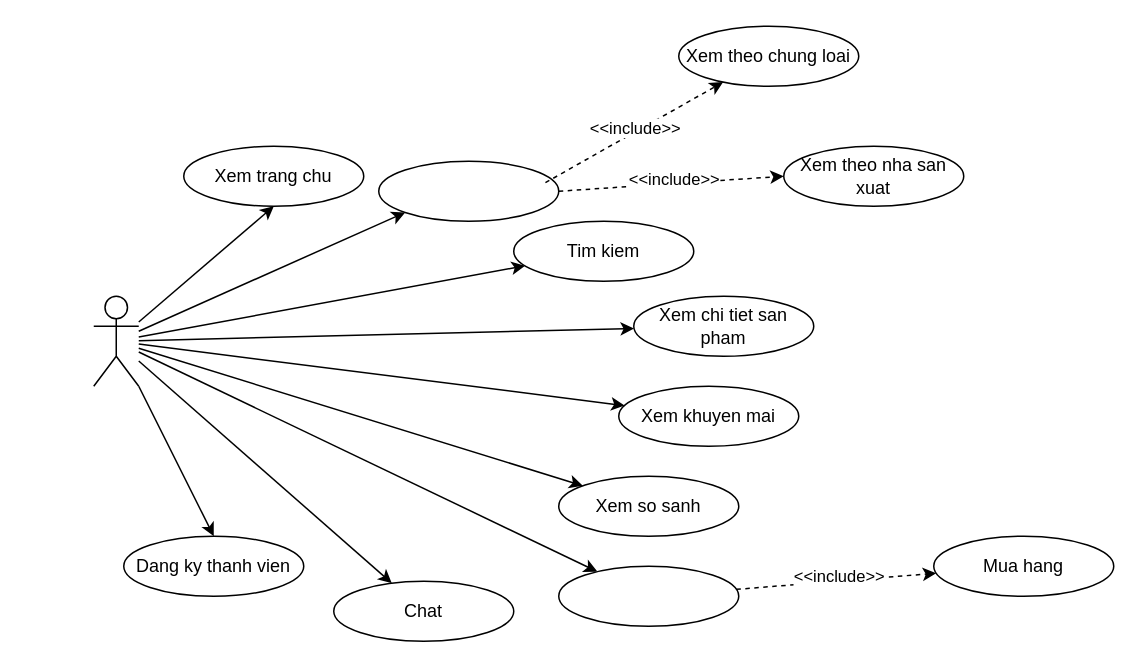
Some shapes in this 1140 by 668 pixel diagram are drawn without their labels. Here are the shapes that lost their labels. From the top down, the centre of each, then its label:
At (x=468, y=190): "Xem san pham".
At (x=115, y=340): "Khach hang tiem nang".
At (x=648, y=595): "Quan ly gio hang".
